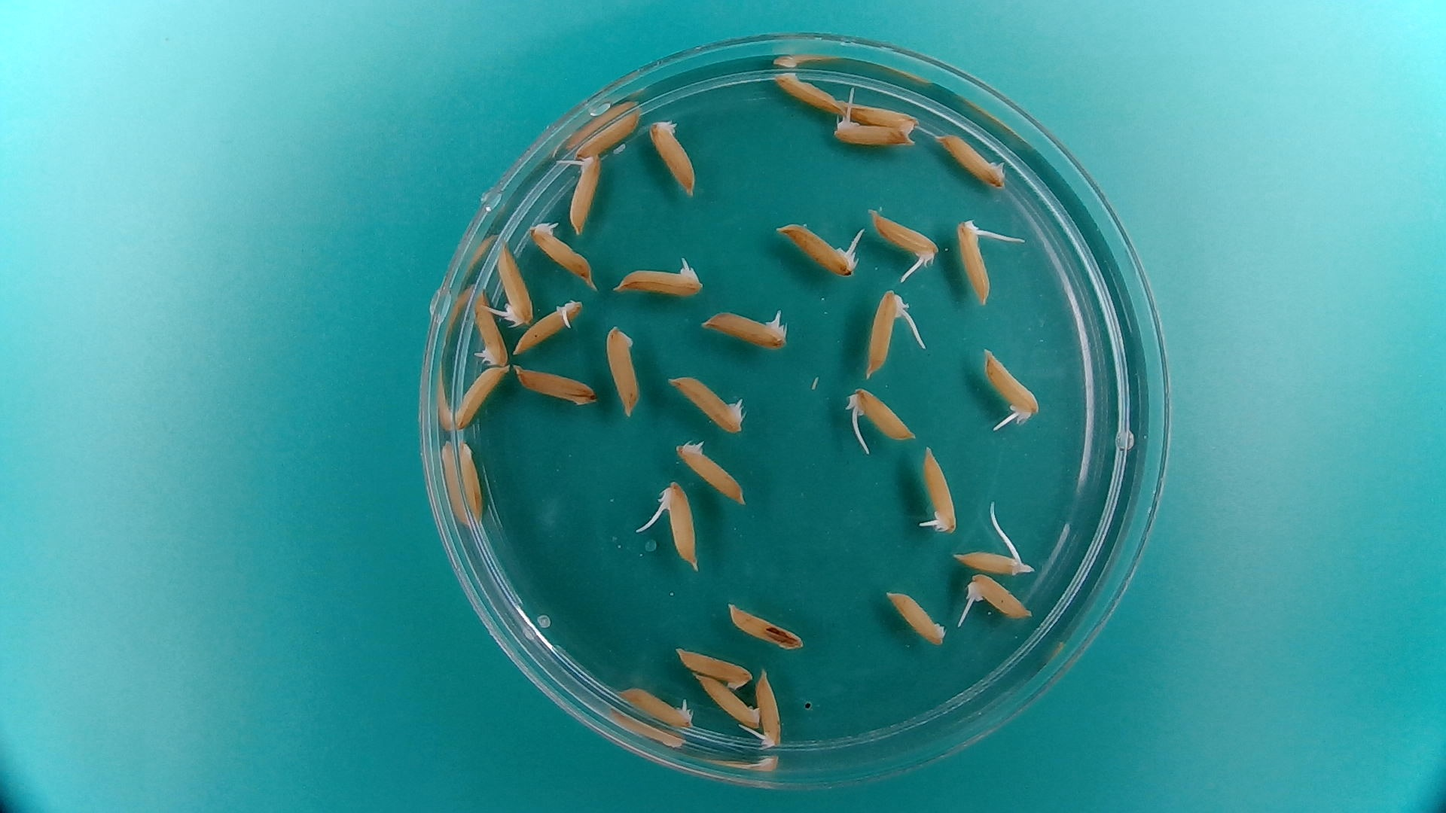no: (670, 434, 749, 506), (933, 129, 1008, 189), (646, 116, 700, 199), (725, 600, 804, 653), (883, 586, 949, 647), (603, 321, 643, 421), (572, 107, 643, 162), (452, 363, 509, 431), (511, 363, 600, 406), (673, 644, 755, 689), (766, 65, 845, 111), (694, 673, 761, 727), (453, 435, 487, 522), (838, 98, 922, 129)
yes: (664, 369, 751, 435), (862, 285, 919, 376), (831, 94, 920, 151), (779, 222, 864, 274), (512, 297, 587, 355), (916, 441, 960, 537), (985, 350, 1039, 425), (850, 386, 919, 443), (531, 222, 595, 283), (491, 241, 535, 327), (618, 260, 706, 300), (468, 287, 507, 376), (565, 151, 604, 236), (617, 687, 695, 729), (871, 217, 942, 263), (964, 574, 1034, 620), (660, 483, 697, 567), (957, 217, 991, 307), (703, 310, 784, 346), (755, 664, 784, 751), (959, 551, 1039, 574)
